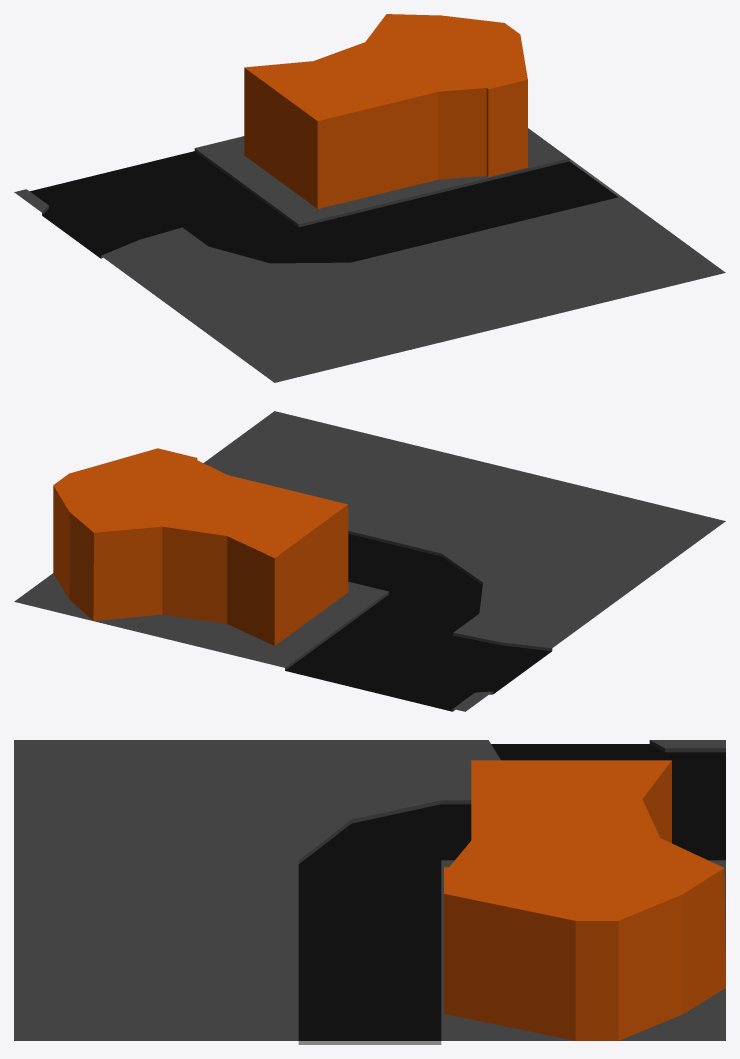
File: 05_carls_n.obj
The picture shows the model from 3 angles, top to bottom: view 1: azimuth 30°, elevation 25°; view 2: azimuth 150°, elevation 25°; view 3: azimuth 270°, elevation 25°; orthographic projection. The views are drawn at different scales.
Visible parts, largest first — view 1: 05_carls_n_Grid.003; view 2: 05_carls_n_Grid.003; view 3: 05_carls_n_Grid.003.
Boxes of the visible parts, x1=… form: 05_carls_n_Grid.003: x1=14, y1=14, x2=725, y2=382; 05_carls_n_Grid.003: x1=14, y1=411, x2=725, y2=711; 05_carls_n_Grid.003: x1=14, y1=740, x2=725, y2=1044.
Size of the model in its own units: 16 by 3.08 by 16.
